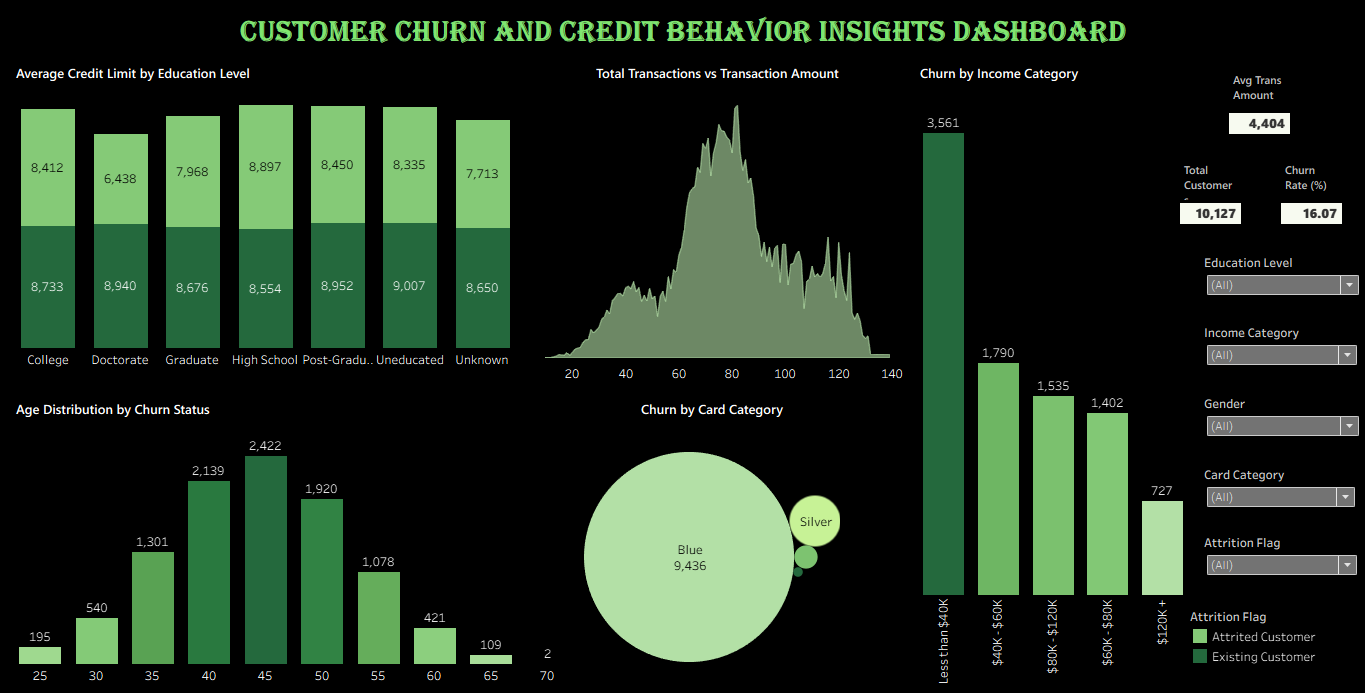

This screenshot's page, from the dashboard's own definition file:
{"tool":"tableau","page":{"name":"Dashboard 1","canvas":[1000,1000],"units":"permille","ordinal":0},"visuals":[{"type":"title","box":[7.2,14.7,985.7,90.1]},{"type":"worksheet","title":"Average Credit Limit by Education Level","mark":"Automatic","rows":["Credit_Limit"],"cols":["Education_Level"],"box":[7.2,104.8,365.9,466.9]},{"type":"worksheet","title":"Total Transactions vs Transaction Amount","mark":"Area","rows":["Total_Trans_Amt"],"cols":["Total_Trans_Ct"],"box":[373.1,104.8,276.2,466.9]},{"type":"worksheet","title":"Churn by Income Category","mark":"Automatic","rows":["CLIENTNUM"],"cols":["Income_Category"],"box":[649.3,104.8,200,880.5]},{"type":"worksheet","title":"Total Customers","mark":"Automatic","box":[862.8,224.3,119.3,141.5]},{"type":"worksheet","title":"Churn Rate (%)","mark":"Automatic","box":[930.9,226.1,54.7,147.1]},{"type":"filter","title":"Average Credit Limit by Education Level","param":"[federated.0md2q5n0y141rv1fdyvcd0jmjedm].[none:Education_Level:nk]","box":[866.4,365.8,130.9,84.6]},{"type":"filter","title":"Average Credit Limit by Education Level","param":"[federated.0md2q5n0y141rv1fdyvcd0jmjedm].[none:Income_Category:nk]","box":[867.3,465.1,128.2,95.6]},{"type":"filter","title":"Average Credit Limit by Education Level","param":"[federated.0md2q5n0y141rv1fdyvcd0jmjedm].[none:Gender:nk]","box":[867.3,568,130,77.2]},{"type":"worksheet","title":"Age Distribution by Churn Status","mark":"Automatic","rows":["CLIENTNUM"],"cols":["Customer Age (bin)"],"box":[7.2,571.7,422.4,413.6]},{"type":"worksheet","title":"Churn by Card Category","mark":"Circle","box":[429.6,571.7,219.7,413.6]},{"type":"filter","title":"Average Credit Limit by Education Level","param":"[federated.0md2q5n0y141rv1fdyvcd0jmjedm].[none:Card_Category:nk]","box":[866.4,658.1,129.2,95.6]},{"type":"filter","title":"Average Credit Limit by Education Level","param":"[federated.0md2q5n0y141rv1fdyvcd0jmjedm].[none:Attrition_Flag:nk]","box":[866.4,766.5,129.2,95.6]},{"type":"legend","title":"Average Credit Limit by Education Level","param":"[federated.0md2q5n0y141rv1fdyvcd0jmjedm].[none:Attrition_Flag:nk]","box":[865.5,873.2,125.6,106.6]}]}

Visuals, with their boxes on the dashboard's canvas, which has no fixed pixel size, in thousandths of its width and height (x1, y1, x2, y2). These are canvas units, not pixel positions in the 1365x693 screenshot, which may show the page scaled, cropped or inside an application window:
title: [left=7, top=15, right=993, bottom=105]
"Average Credit Limit by Education Level" worksheet: [left=7, top=105, right=373, bottom=572]
"Total Transactions vs Transaction Amount" worksheet (Area marks): [left=373, top=105, right=649, bottom=572]
"Churn by Income Category" worksheet: [left=649, top=105, right=849, bottom=985]
"Total Customers" worksheet: [left=863, top=224, right=982, bottom=366]
"Churn Rate (%)" worksheet: [left=931, top=226, right=986, bottom=373]
"Average Credit Limit by Education Level" filter: [left=866, top=366, right=997, bottom=450]
"Average Credit Limit by Education Level" filter: [left=867, top=465, right=996, bottom=561]
"Average Credit Limit by Education Level" filter: [left=867, top=568, right=997, bottom=645]
"Age Distribution by Churn Status" worksheet: [left=7, top=572, right=430, bottom=985]
"Churn by Card Category" worksheet (Circle marks): [left=430, top=572, right=649, bottom=985]
"Average Credit Limit by Education Level" filter: [left=866, top=658, right=996, bottom=754]
"Average Credit Limit by Education Level" filter: [left=866, top=766, right=996, bottom=862]
"Average Credit Limit by Education Level" legend: [left=866, top=873, right=991, bottom=980]
